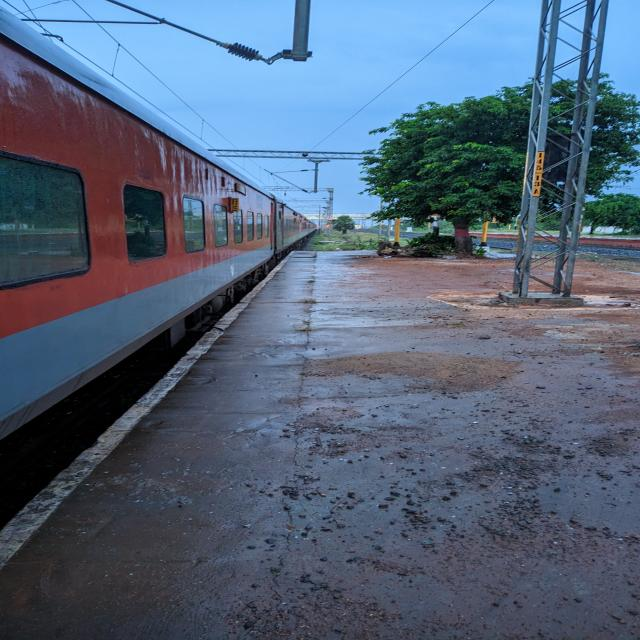train: (0, 2, 333, 544)
